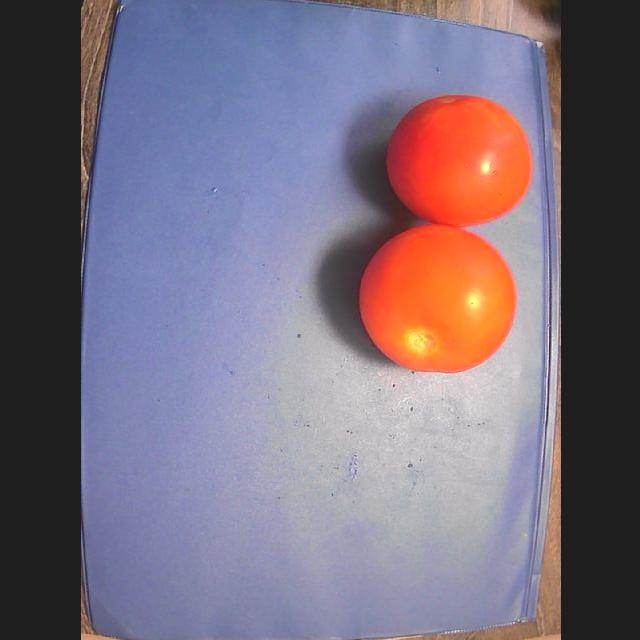tomate: (359, 225, 516, 372), (386, 95, 532, 227)
